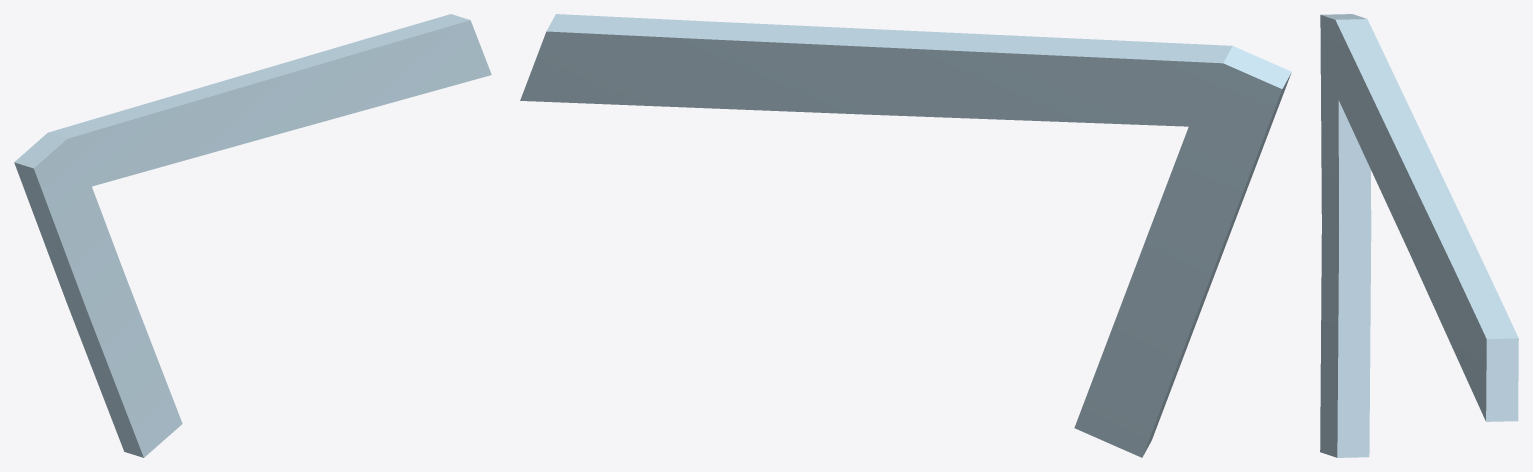
Rendered from Number_7.gltf.
The picture shows the model from 3 angles, left to right: view 1: azimuth 30°, elevation 25°; view 2: azimuth 150°, elevation 25°; view 3: azimuth 270°, elevation 25°; orthographic projection. The views are drawn at different scales.
Parts seen in each view (by area): view 1: Sub_2_Cell_2_3_Number_7; view 2: Sub_2_Cell_2_3_Number_7; view 3: Sub_2_Cell_2_3_Number_7.
Part boxes in pixels (x1,y1,x2,y2): Sub_2_Cell_2_3_Number_7: [14, 14, 491, 457]; Sub_2_Cell_2_3_Number_7: [520, 14, 1291, 457]; Sub_2_Cell_2_3_Number_7: [1320, 14, 1518, 457].
Bounding box in the file's own units: 0.0278 × 0.0166 × 0.00758.
